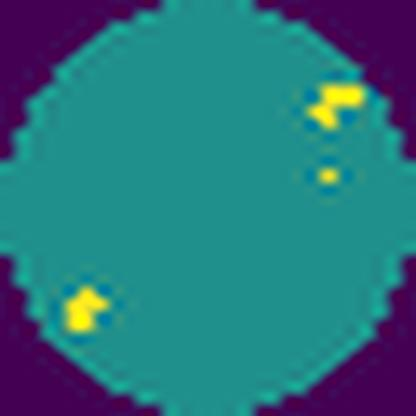Loc: (59, 280, 111, 341), (304, 79, 366, 129)
